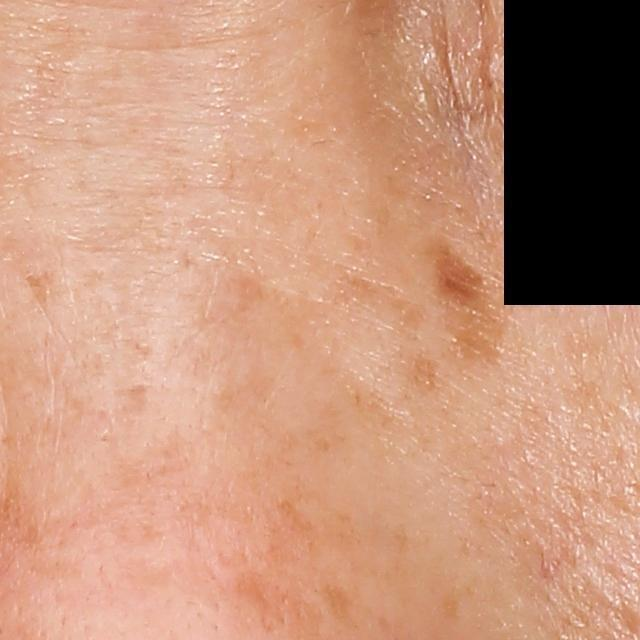melasma: (427, 233, 509, 364), (324, 275, 431, 344), (398, 346, 444, 393), (321, 582, 359, 631), (23, 268, 53, 312)
